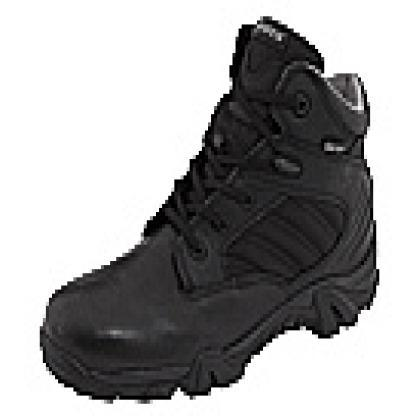bota: (38, 25, 374, 396)
